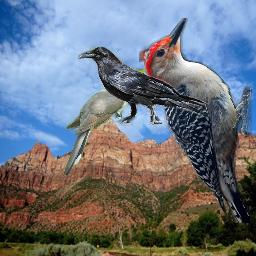Crow: (78, 46, 212, 128)
Cuckoo: (63, 68, 146, 175)
Woodpecker: (139, 18, 252, 223)
